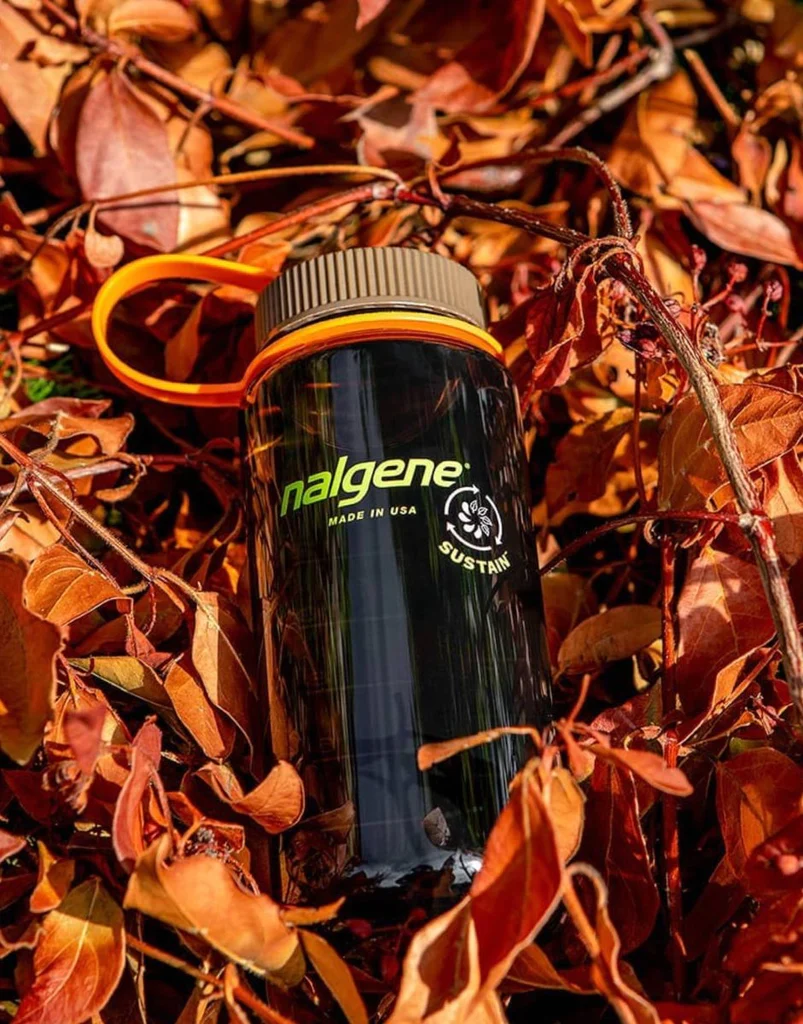bottle: (84, 246, 582, 922)
